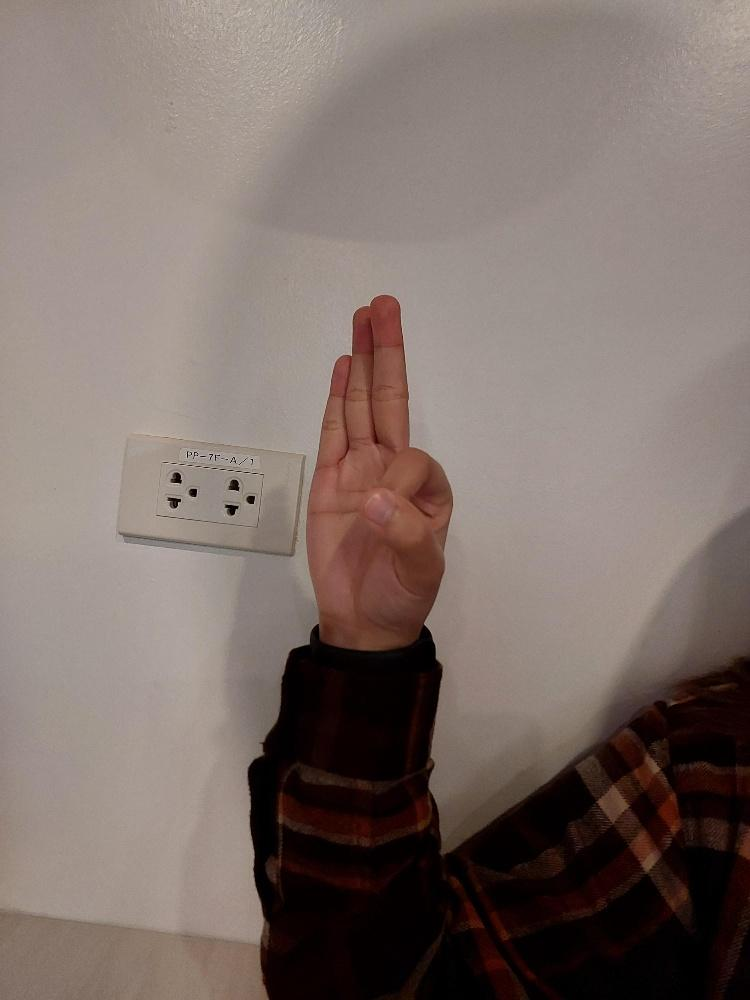f: (299, 290, 458, 646)
